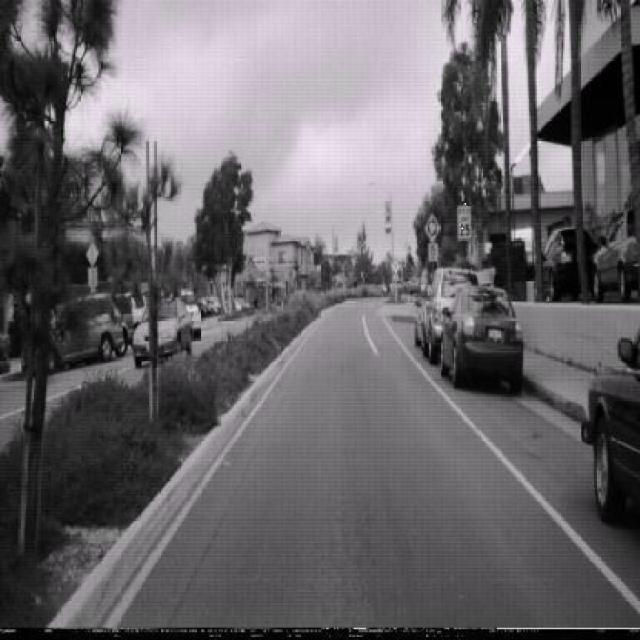roundabout: (424, 210, 440, 246)
speedLimit25: (457, 203, 472, 240)
